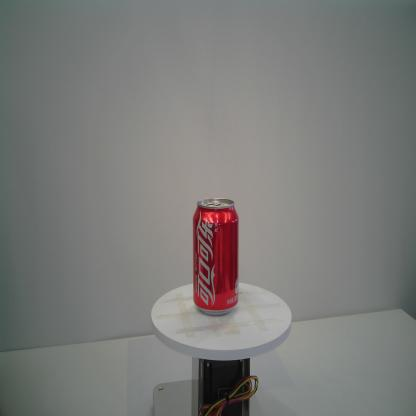Drink: (191, 196, 240, 318)
